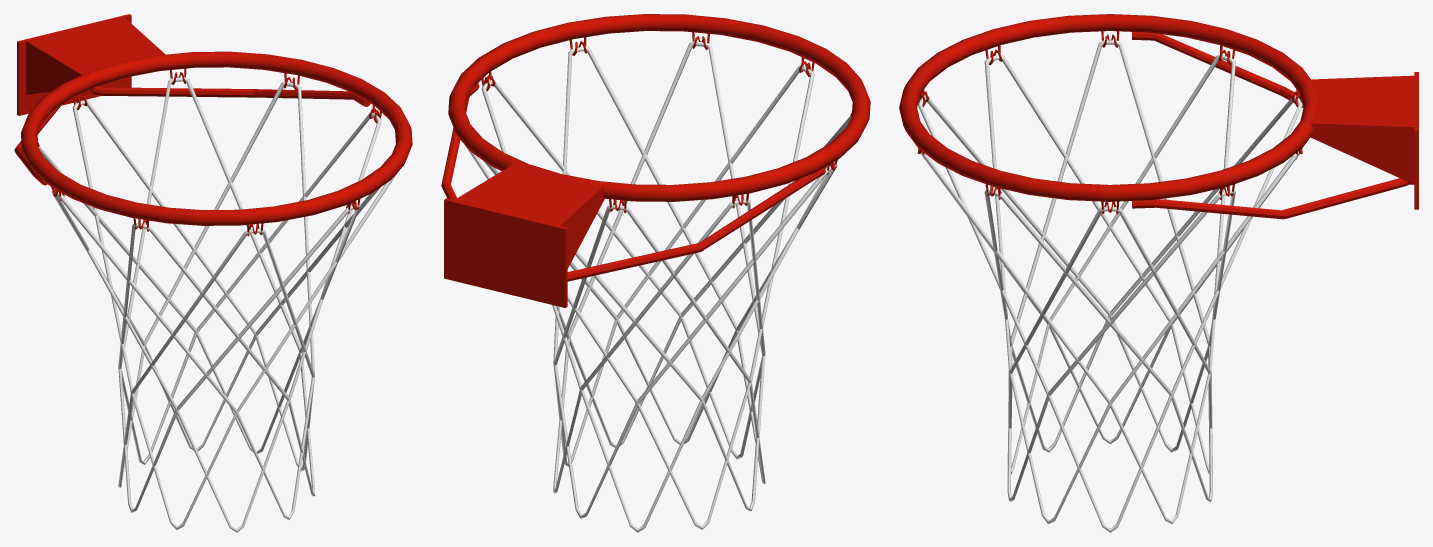
Rendered from basketball-net.glb.
The picture shows the model from 3 angles, left to right: view 1: azimuth 30°, elevation 25°; view 2: azimuth 150°, elevation 25°; view 3: azimuth 270°, elevation 25°; orthographic projection. The views are drawn at different scales.
Visible parts, largest first — view 1: Object_5, Object_3; view 2: Object_5, Object_3; view 3: Object_5, Object_3.
Part boxes in pixels (left/top/right/bottom): Object_5: left=14, top=14, right=412, bottom=236; Object_3: left=38, top=77, right=397, bottom=532; Object_5: left=441, top=14, right=870, bottom=307; Object_3: left=464, top=41, right=851, bottom=532; Object_5: left=899, top=14, right=1418, bottom=219; Object_3: left=918, top=40, right=1302, bottom=532.
Bounding box in the file's own units: 47.01 × 47.72 × 57.85.
